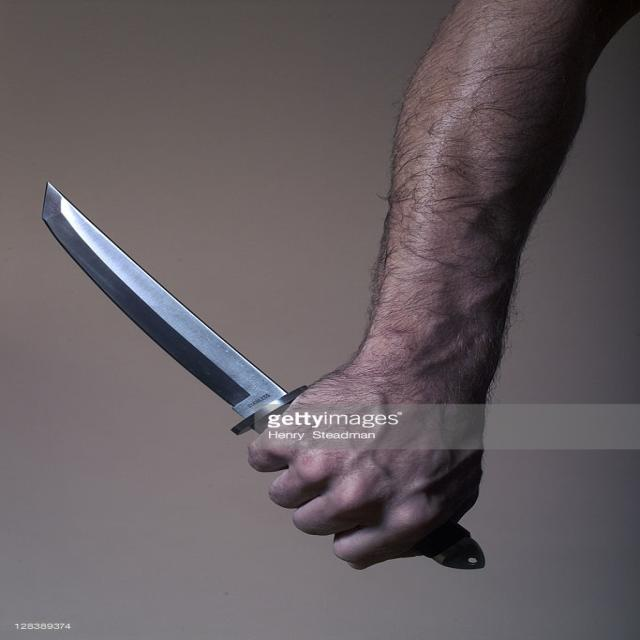knife: (30, 177, 297, 429)
